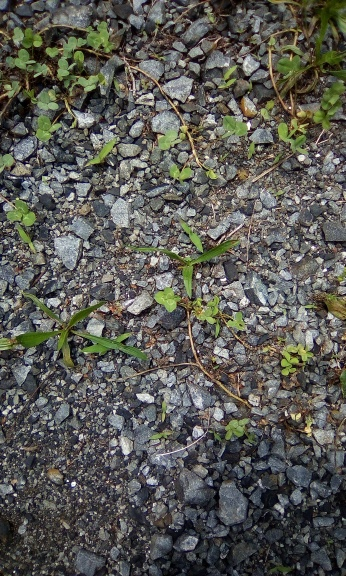4leaf: (153, 287, 182, 313)
